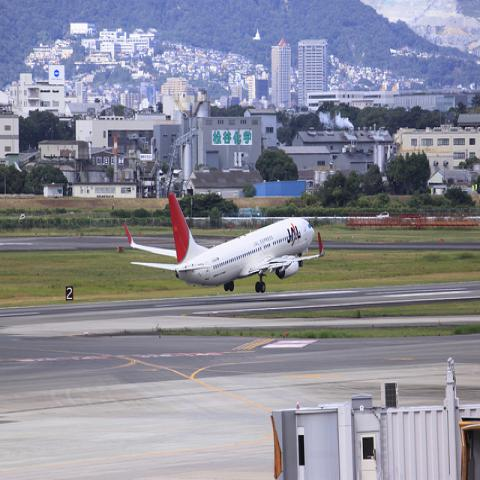car: (376, 211, 390, 218)
